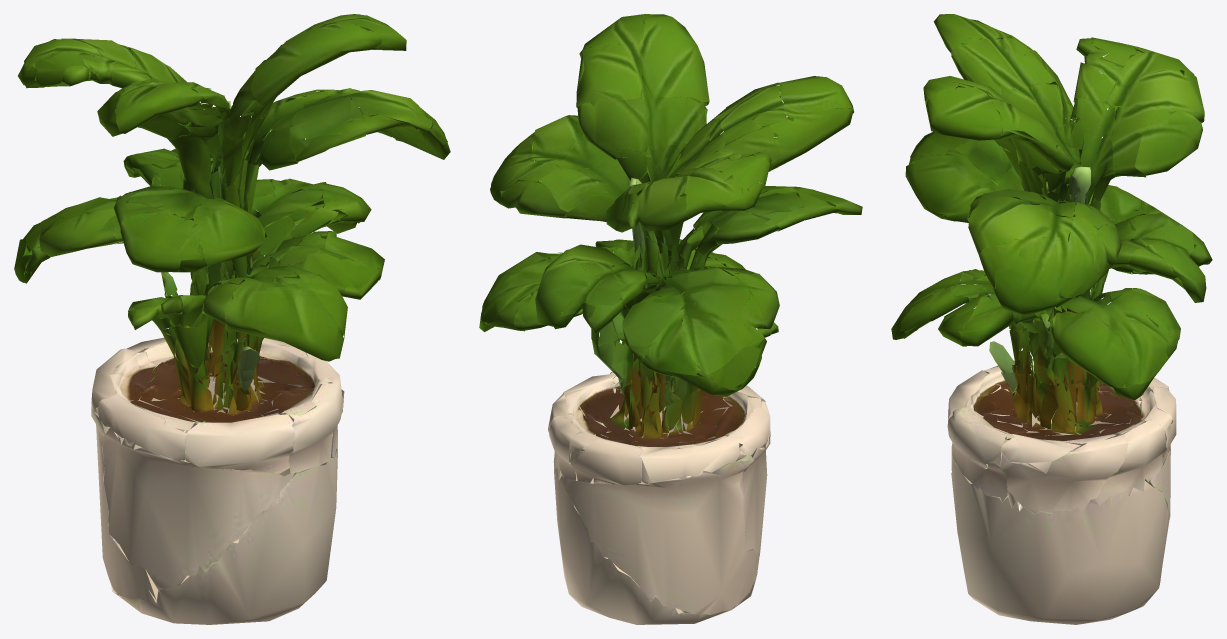
File: plant.glb
The picture shows the model from 3 angles, left to right: view 1: azimuth 30°, elevation 25°; view 2: azimuth 150°, elevation 25°; view 3: azimuth 270°, elevation 25°; orthographic projection. The views are drawn at different scales.
Parts seen in each view (by area): view 1: Mesh_0; view 2: Mesh_0; view 3: Mesh_0.
Part boxes in pixels (left/top/right/bottom): Mesh_0: left=14, top=14, right=450, bottom=624; Mesh_0: left=479, top=14, right=862, bottom=624; Mesh_0: left=891, top=14, right=1212, bottom=624.
Size of the model in its own units: 0.6866 by 1.05 by 0.5719.
Materials: 1 (1 with a texture image).
